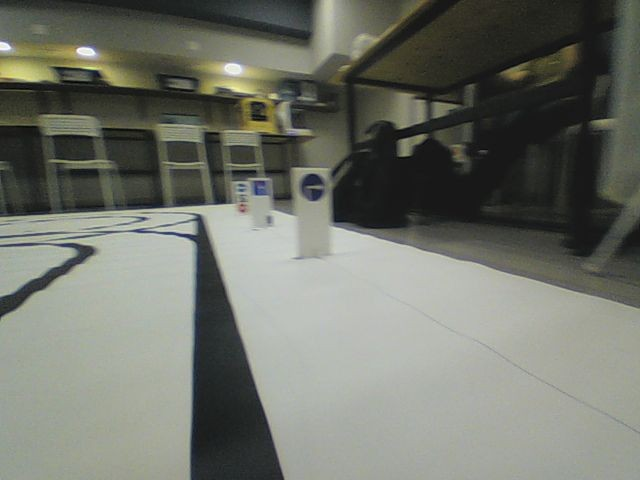Right: (299, 171, 325, 202)
